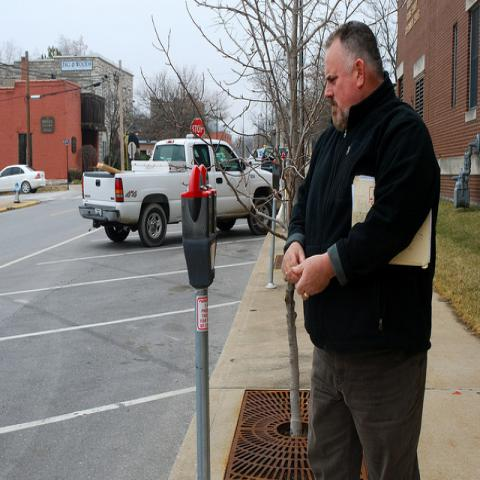car: (0, 164, 47, 193), (260, 148, 287, 174)
truck: (78, 135, 274, 246)
